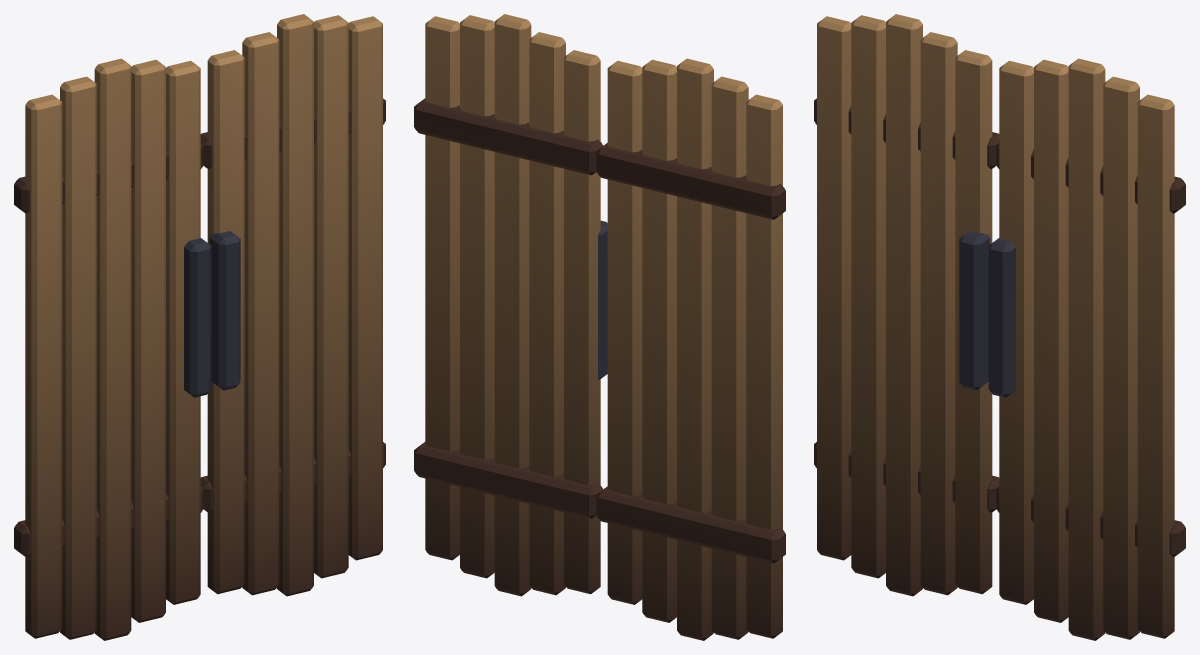
Rendered from gate_ornate.glb.
3 renders of one model, left to right at view 1: azimuth 30°, elevation 25°; view 2: azimuth 150°, elevation 25°; view 3: azimuth 330°, elevation 25°, orthographic.
Visible parts, largest first — view 1: LeafLMesh, LeafRMesh; view 2: LeafRMesh, LeafLMesh; view 3: LeafRMesh, LeafLMesh.
Part boxes in pixels (bbox=[...]): LeafLMesh: bbox=[14, 58, 211, 640]; LeafRMesh: bbox=[200, 14, 385, 596]; LeafRMesh: bbox=[414, 14, 607, 596]; LeafLMesh: bbox=[596, 58, 785, 640]; LeafRMesh: bbox=[988, 58, 1185, 640]; LeafLMesh: bbox=[814, 14, 999, 596].
Bounding box in the file's own units: 1 × 1.5 × 0.115.
